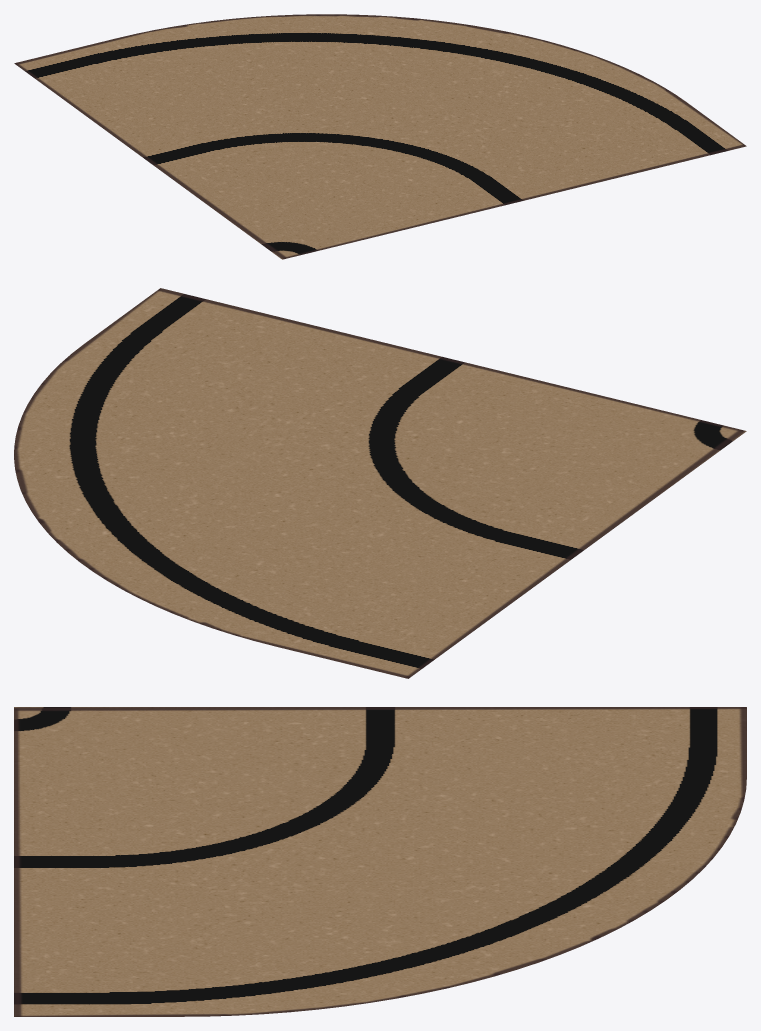
Rendered from piece_3.dae.
The picture shows the model from 3 angles, top to bottom: view 1: azimuth 30°, elevation 25°; view 2: azimuth 150°, elevation 25°; view 3: azimuth 270°, elevation 25°; orthographic projection. The views are drawn at different scales.
Visible parts, largest first — view 1: node0.001; view 2: node0.001; view 3: node0.001.
Boxes of the visible parts, x1,y1,x2,y2 form: node0.001: [14, 14, 746, 259]; node0.001: [14, 288, 746, 678]; node0.001: [14, 707, 746, 1016].
Bounding box in the file's own units: 0.51 × 0.51 × 0.
Materials: 1 (1 with a texture image).
